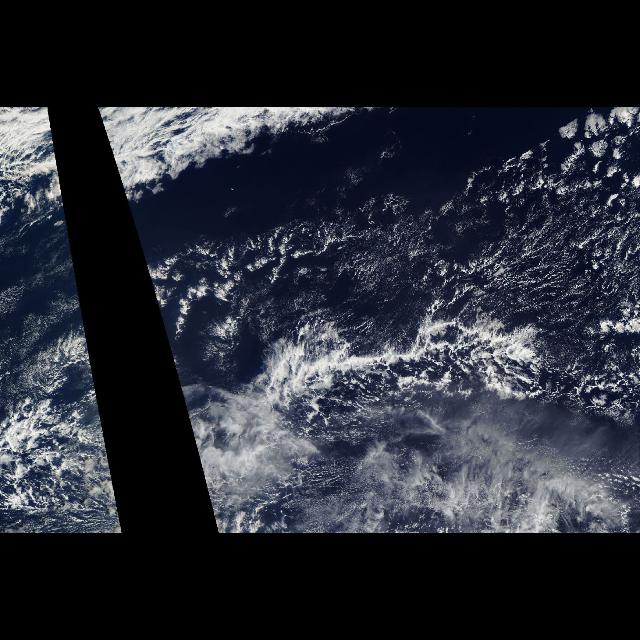Fish: (228, 248, 634, 428)
Sugar: (219, 175, 629, 342)
